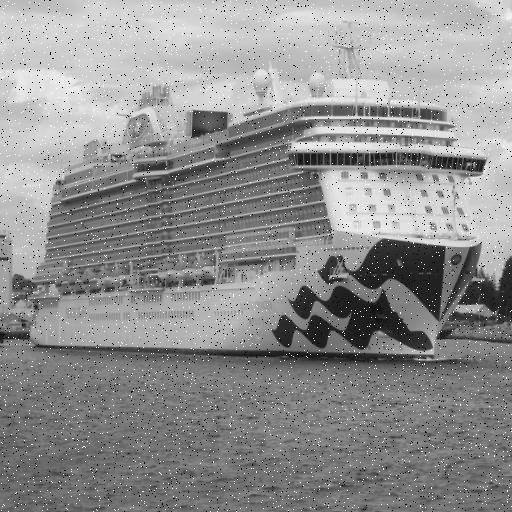cruises: (26, 18, 491, 370)
